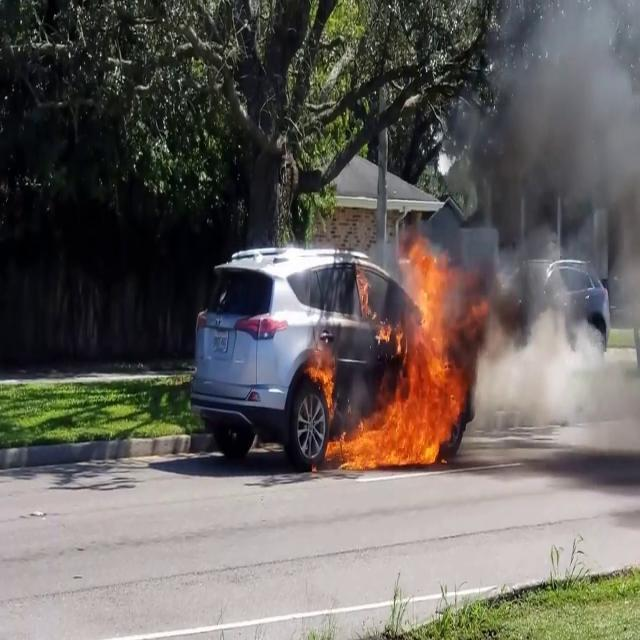Fire: (334, 240, 471, 476), (300, 346, 342, 416)
Smoke: (433, 3, 640, 353), (463, 313, 640, 476)
